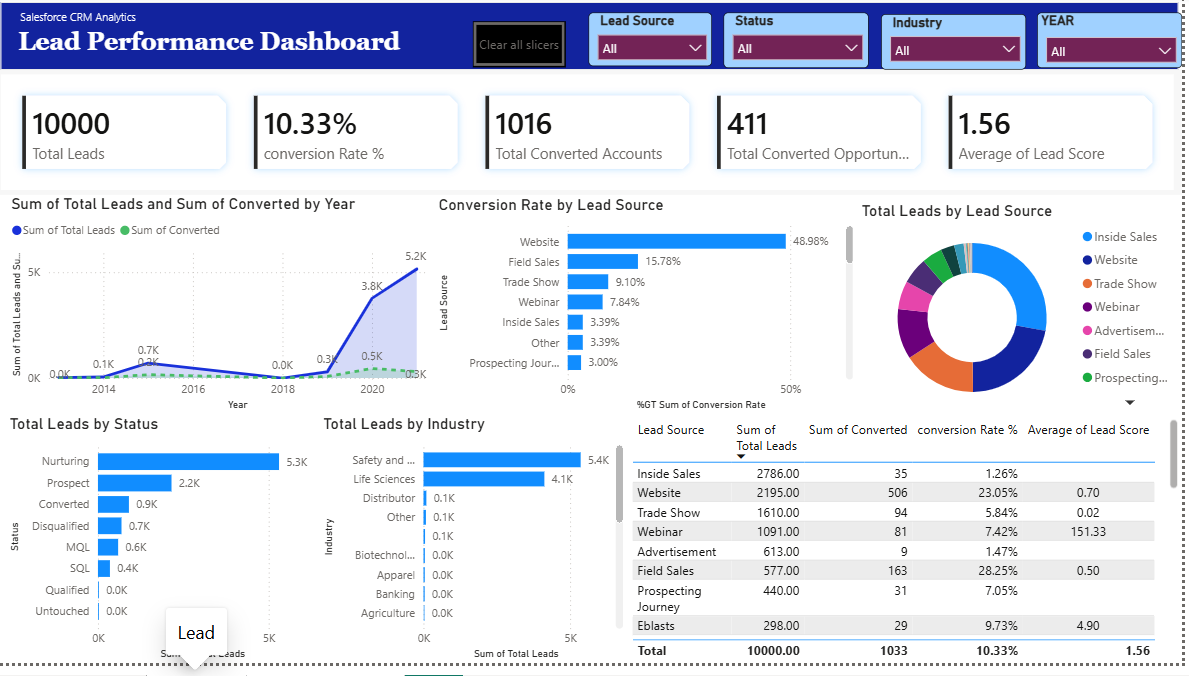

The page's visual inventory and layout, read from the dashboard file:
{"tool":"powerbi","page":{"name":"Lead ","canvas":[1280,720],"ordinal":0},"visuals":[{"type":"areaChart","fields":{"Y":["Sum(Lead.Total Leads)","Sum(Lead.Converted)"],"Category":["Lead.Created Date.Variation.Date Hierarchy.Year"]},"box":[10.5,214.5,460.7,237.4],"z":0},{"type":"donutChart","title":"Total Leads by Lead Source","fields":{"Category":["Lead.Lead Source","Lead.Total Leads"],"Y":["Sum(Lead.Total Leads)"]},"box":[930.1,221.5,349.9,230.3],"z":1000},{"type":"barChart","title":" Total Leads by Status","fields":{"Y":["Sum(Lead.Total Leads)"],"Category":["Lead.Status"]},"box":[9.7,451.8,338.4,268.8],"z":2000},{"type":"clusteredBarChart","title":"Conversion Rate by Lead Source","fields":{"Category":["Lead.Lead Source"],"Y":["Sum(Lead.Conversion Rate)"]},"box":[472.4,215.4,457.3,236.2],"z":3000},{"type":"clusteredBarChart","title":"Total Leads by Industry","fields":{"Category":["Lead.Industry"],"Y":["Sum(Lead.Total Leads)"]},"box":[348.1,451.8,333.6,268.8],"z":4000},{"type":"textbox","box":[4.9,6.5,1271.1,72.9],"z":5000},{"type":"tableEx","fields":{"Values":["Lead.Lead Source","Sum(Lead.Total Leads)","Sum(Lead.Converted)","Lead.conversion Rate %","Lead.Lead Score - Copy"]},"box":[681.7,451.8,599.1,268.8],"z":6000},{"type":"slicer","fields":{"Values":["Lead.Lead Source"]},"box":[640,17.6,133.6,58],"z":7000},{"type":"cardVisual","fields":{"Data":["Sum(Lead.Total Leads)","Lead.conversion Rate %","Sum(Lead.# Converted Accounts)","Sum(Lead.# Converted Opportunities)","Avg(Lead.Lead Score - Copy)"]},"box":[0,79.1,1280,135.4],"z":8000},{"type":"slicer","fields":{"Values":["Lead.Industry"]},"box":[954.7,19.3,156.5,59.8],"z":9000},{"type":"slicer","title":"YEAR","fields":{"Values":["Lead.Created Date.Variation.Date Hierarchy.Year","Lead.Created Date.Variation.Date Hierarchy.Month"]},"box":[1123.5,17.6,156.5,59.8],"z":10000},{"type":"actionButton","box":[515.2,28.1,100.2,49.2],"z":11000},{"type":"slicer","fields":{"Values":["Lead.Status"]},"box":[785.9,17.6,156.5,59.8],"z":12000}]}

Visuals, with their boxes in screenshot pixels (x1, y1, x2, y2), scaled from the page's 1280x720 canvas onto the 1189x676 screenshot:
areaChart - Sum(Lead.Total Leads) x Sum(Lead.Converted): x1=10, y1=201, x2=438, y2=424
"Total Leads by Lead Source" donutChart: x1=864, y1=208, x2=1188, y2=424
" Total Leads by Status" barChart: x1=9, y1=424, x2=323, y2=675
"Conversion Rate by Lead Source" clusteredBarChart: x1=439, y1=202, x2=864, y2=424
"Total Leads by Industry" clusteredBarChart: x1=323, y1=424, x2=633, y2=675
textbox: x1=5, y1=6, x2=1185, y2=75
tableEx - Lead.Lead Source x Sum(Lead.Total Leads): x1=633, y1=424, x2=1188, y2=675
slicer - Lead.Lead Source: x1=594, y1=17, x2=719, y2=71
cardVisual - Sum(Lead.Total Leads) x Lead.conversion Rate %: x1=0, y1=74, x2=1188, y2=201
slicer - Lead.Industry: x1=887, y1=18, x2=1032, y2=74
"YEAR" slicer: x1=1044, y1=17, x2=1188, y2=73
actionButton: x1=479, y1=26, x2=572, y2=73
slicer - Lead.Status: x1=730, y1=17, x2=875, y2=73
